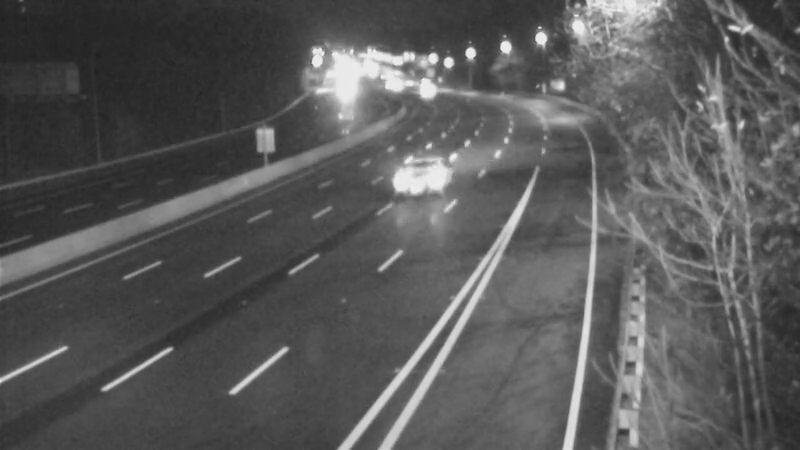vehicle: (391, 137, 471, 217), (402, 64, 452, 114)
